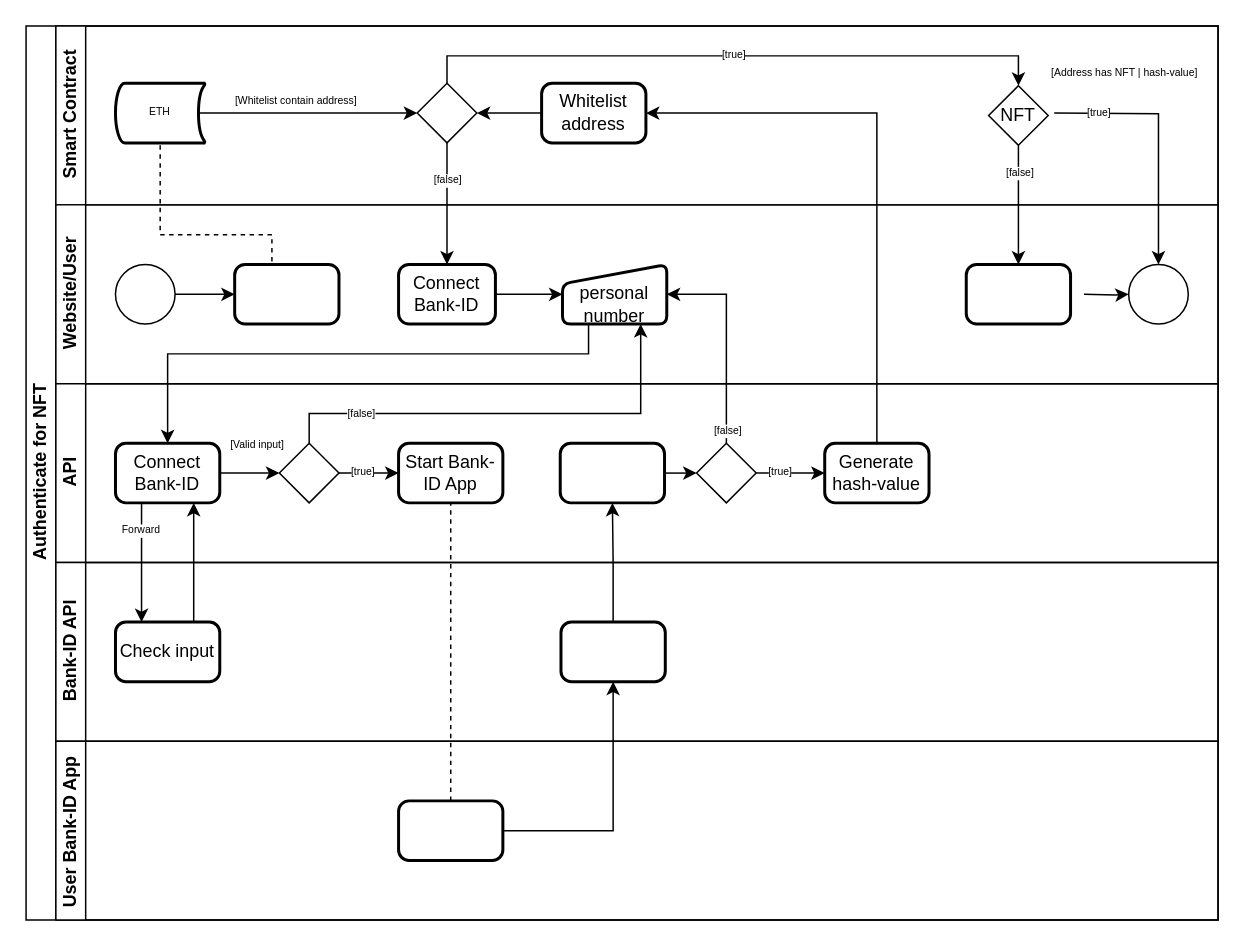
The diagram is 1244 pixels wide and 946 high, and some of its shapes have lost their labels. Here are the shapes that lost their labels. From the top down, the centre of each, then its label:
At pixel 446 112: "WL".
At pixel 286 293: "Connect Web3 (MetaMask)".
At pixel 1017 293: "Mint Personal NFT".
At pixel 611 472: "Controll".
At pixel 725 472: "Auth".
At pixel 612 651: "Verification".
At pixel 450 830: "Sign".
